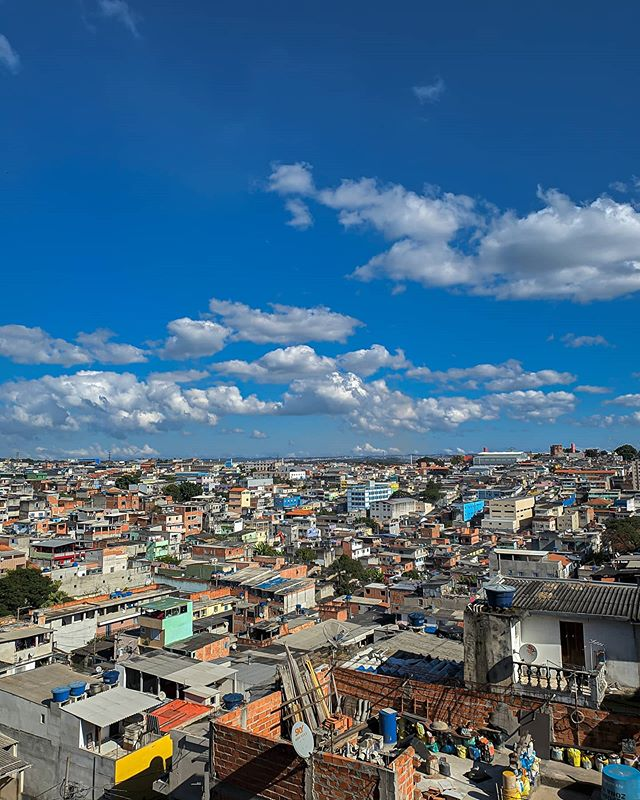building: (470, 576, 640, 707), (1, 665, 163, 800), (137, 598, 228, 713), (343, 466, 402, 518), (475, 489, 537, 535), (363, 498, 421, 532)
sky: (1, 1, 615, 441)
trash: (260, 689, 602, 800)
